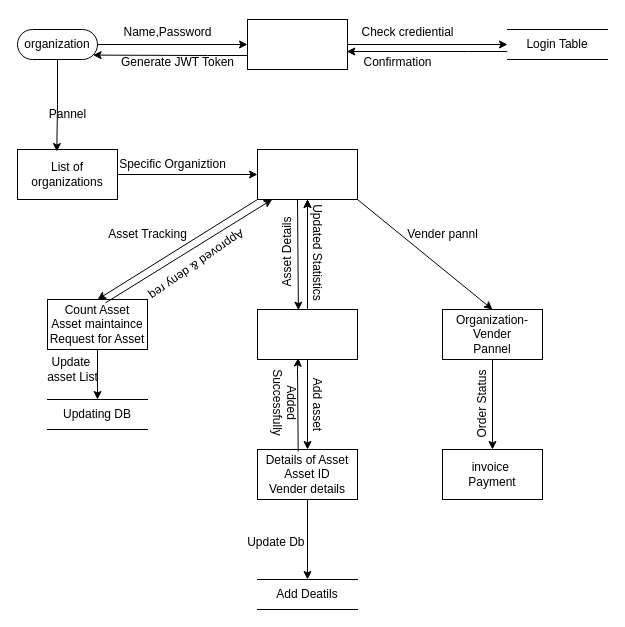
Image size: 625x627. Some labels were removed from this diagram. Here are the shapes that lost their labels. From the top down, the centre of each, then its label:
pixel 297 44: Login check
pixel 307 174: views of statistics of Organzation
pixel 307 334: Add Asset List of asset export details
